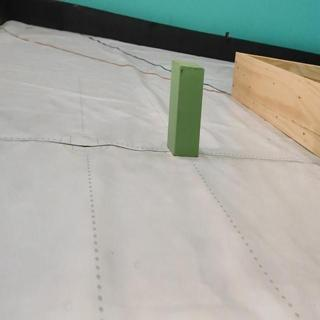greenbox: (169, 61, 205, 157)
